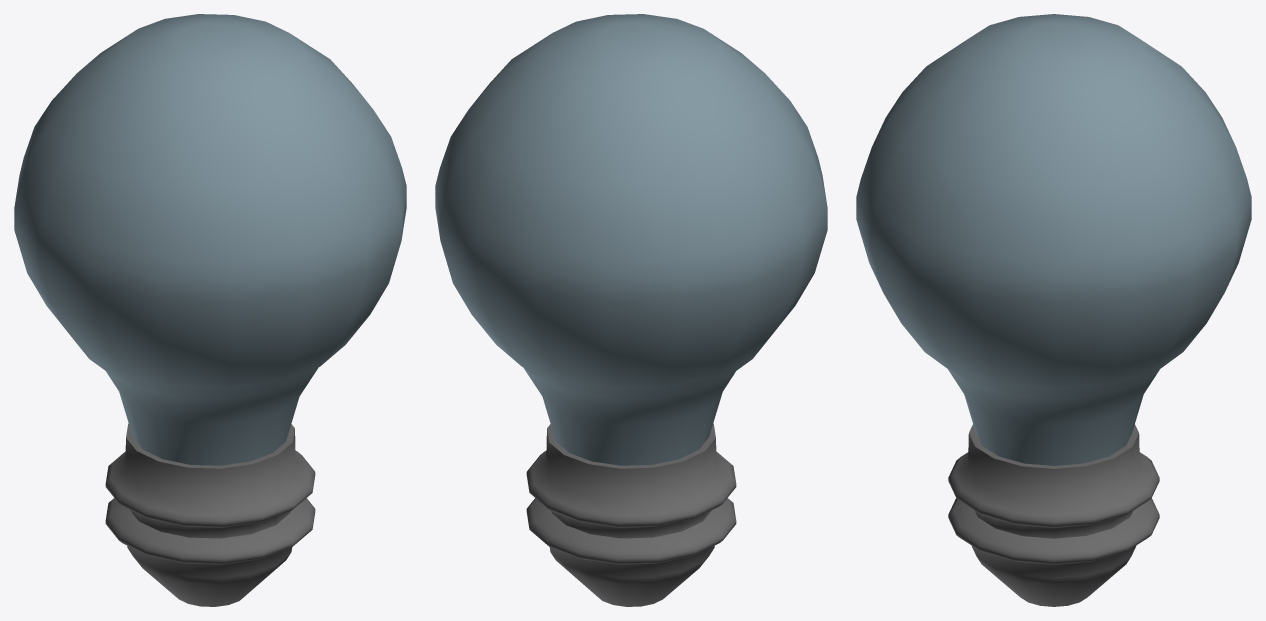
Rendered from LightBulb.fbx.
3 views of the same model, side by side, from view 1: azimuth 30°, elevation 25°; view 2: azimuth 150°, elevation 25°; view 3: azimuth 270°, elevation 25° (orthographic).
Visible parts, largest first — view 1: Circle; view 2: Circle; view 3: Circle.
Part boxes in pixels (left/top/right/bottom): Circle: left=14, top=14, right=406, bottom=606; Circle: left=435, top=14, right=827, bottom=606; Circle: left=856, top=14, right=1251, bottom=606.
Size of the model in its own units: 7.59 by 11.87 by 7.59.
